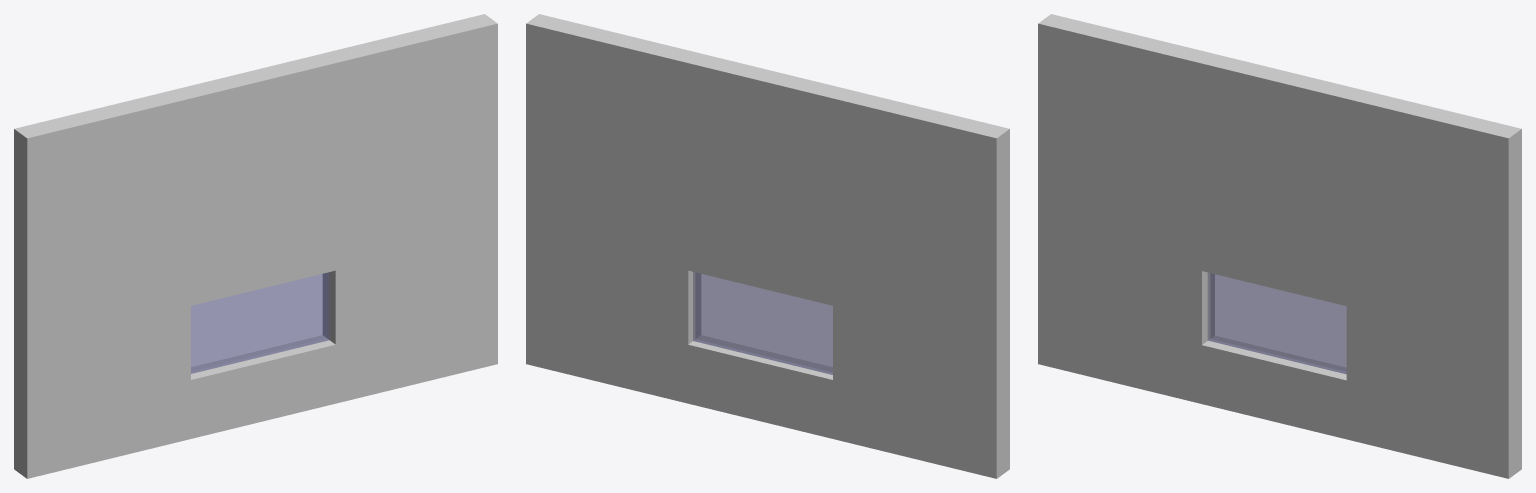
File: Wall_back_with_window.fbx
3 views of the same model, side by side, from view 1: azimuth 30°, elevation 25°; view 2: azimuth 150°, elevation 25°; view 3: azimuth 330°, elevation 25° (orthographic).
Parts seen in each view (by area): view 1: Wall_back, Window; view 2: Wall_back, Window; view 3: Wall_back, Window.
Boxes of the visible parts, x1,y1,x2,y2 form: Wall_back: (14, 14, 497, 478); Window: (191, 272, 329, 373); Wall_back: (526, 14, 1009, 478); Window: (693, 272, 832, 374); Wall_back: (1038, 14, 1521, 478); Window: (1208, 273, 1346, 373).
Bounding box in the file's own units: 26.14 × 18.07 × 1.26.
